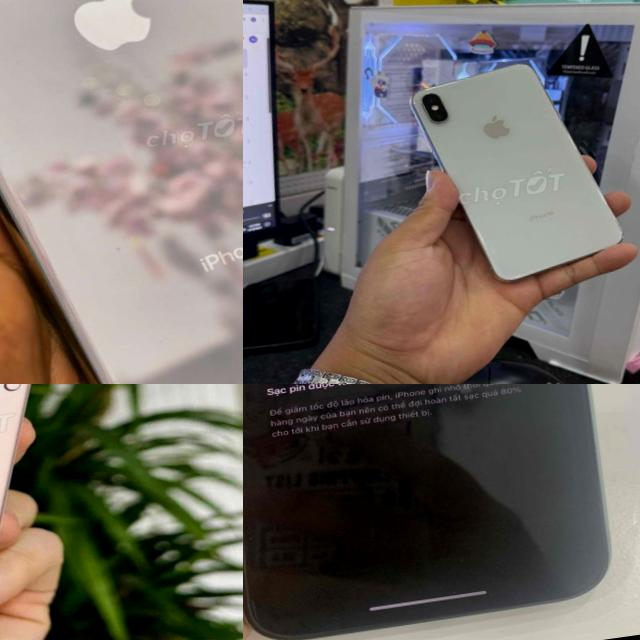gen_11: (243, 384, 632, 640)
gen_12_13: (0, 384, 146, 640)
gen_x_xs: (0, 0, 243, 384), (374, 44, 640, 299)
scratch: (104, 232, 143, 269)
